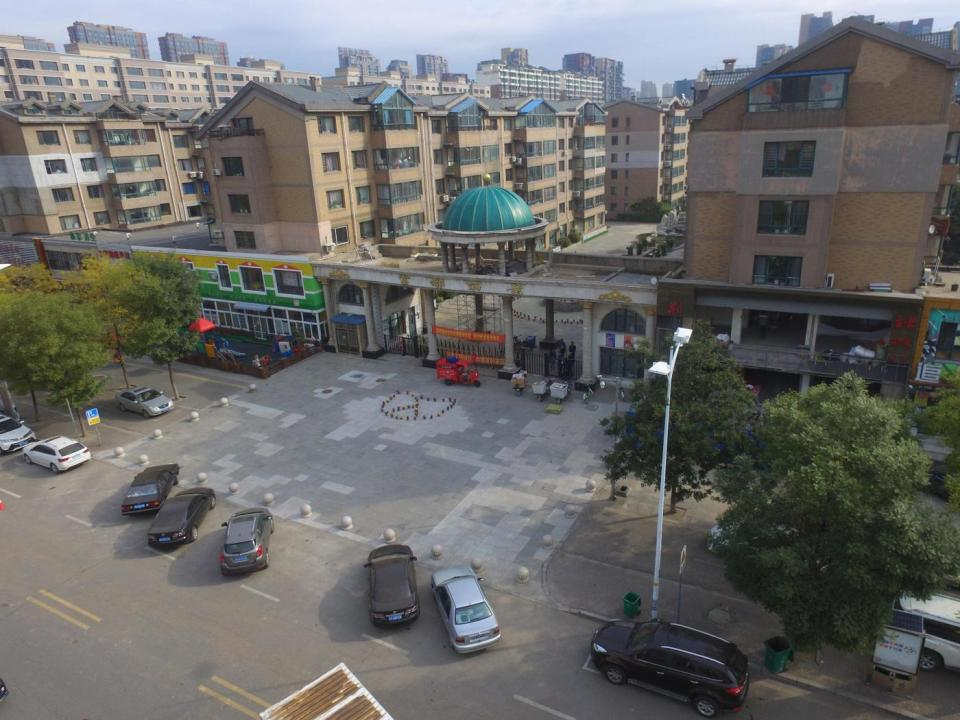car: (589, 618, 751, 716), (706, 516, 830, 579), (884, 583, 960, 673), (429, 564, 500, 654), (365, 544, 421, 627), (148, 485, 217, 546), (222, 508, 274, 579), (21, 437, 91, 474), (115, 386, 172, 420), (0, 410, 35, 453)
